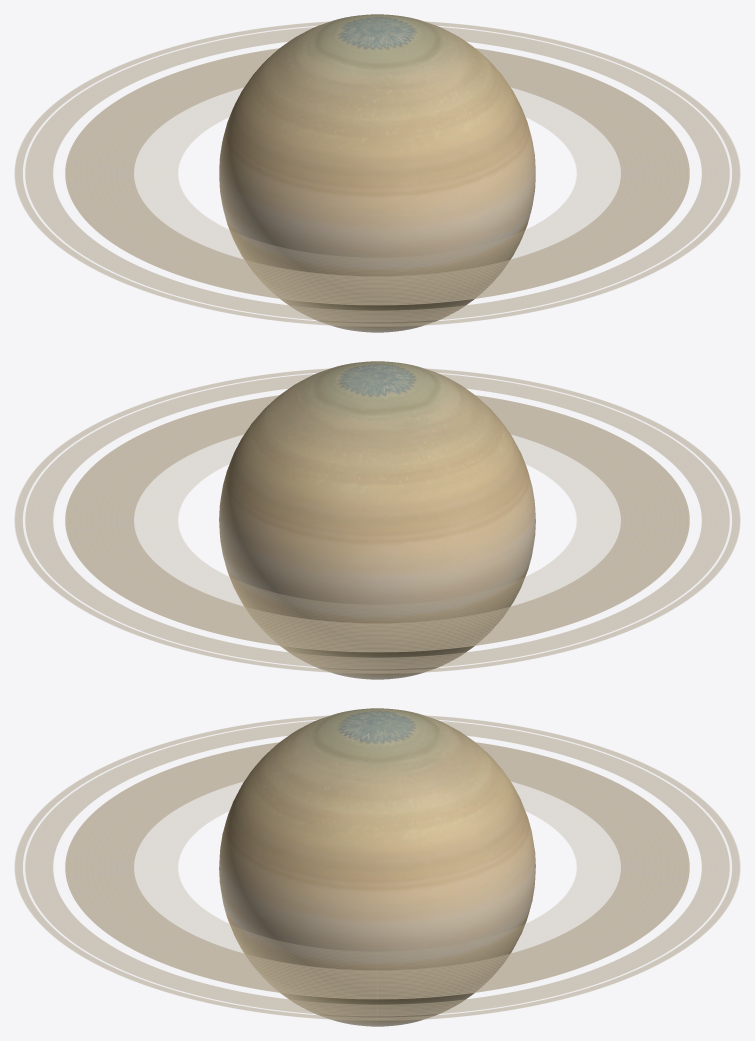
The model's file is saturn.glb.
3 views of the same model, one above another, from view 1: azimuth 30°, elevation 25°; view 2: azimuth 150°, elevation 25°; view 3: azimuth 270°, elevation 25° (orthographic).
Visible parts, largest first — view 1: saturn_rings, saturn; view 2: saturn_rings, saturn; view 3: saturn_rings, saturn.
Part boxes in pixels (x1,y1,x2,y2): saturn_rings: (14,21,740,326); saturn: (219,14,535,332); saturn_rings: (14,368,740,673); saturn: (219,361,535,679); saturn_rings: (14,715,740,1020); saturn: (219,708,535,1026).
Bounding box in the file's own units: 4.54 × 2 × 4.54.
2 materials, 2 textured.
